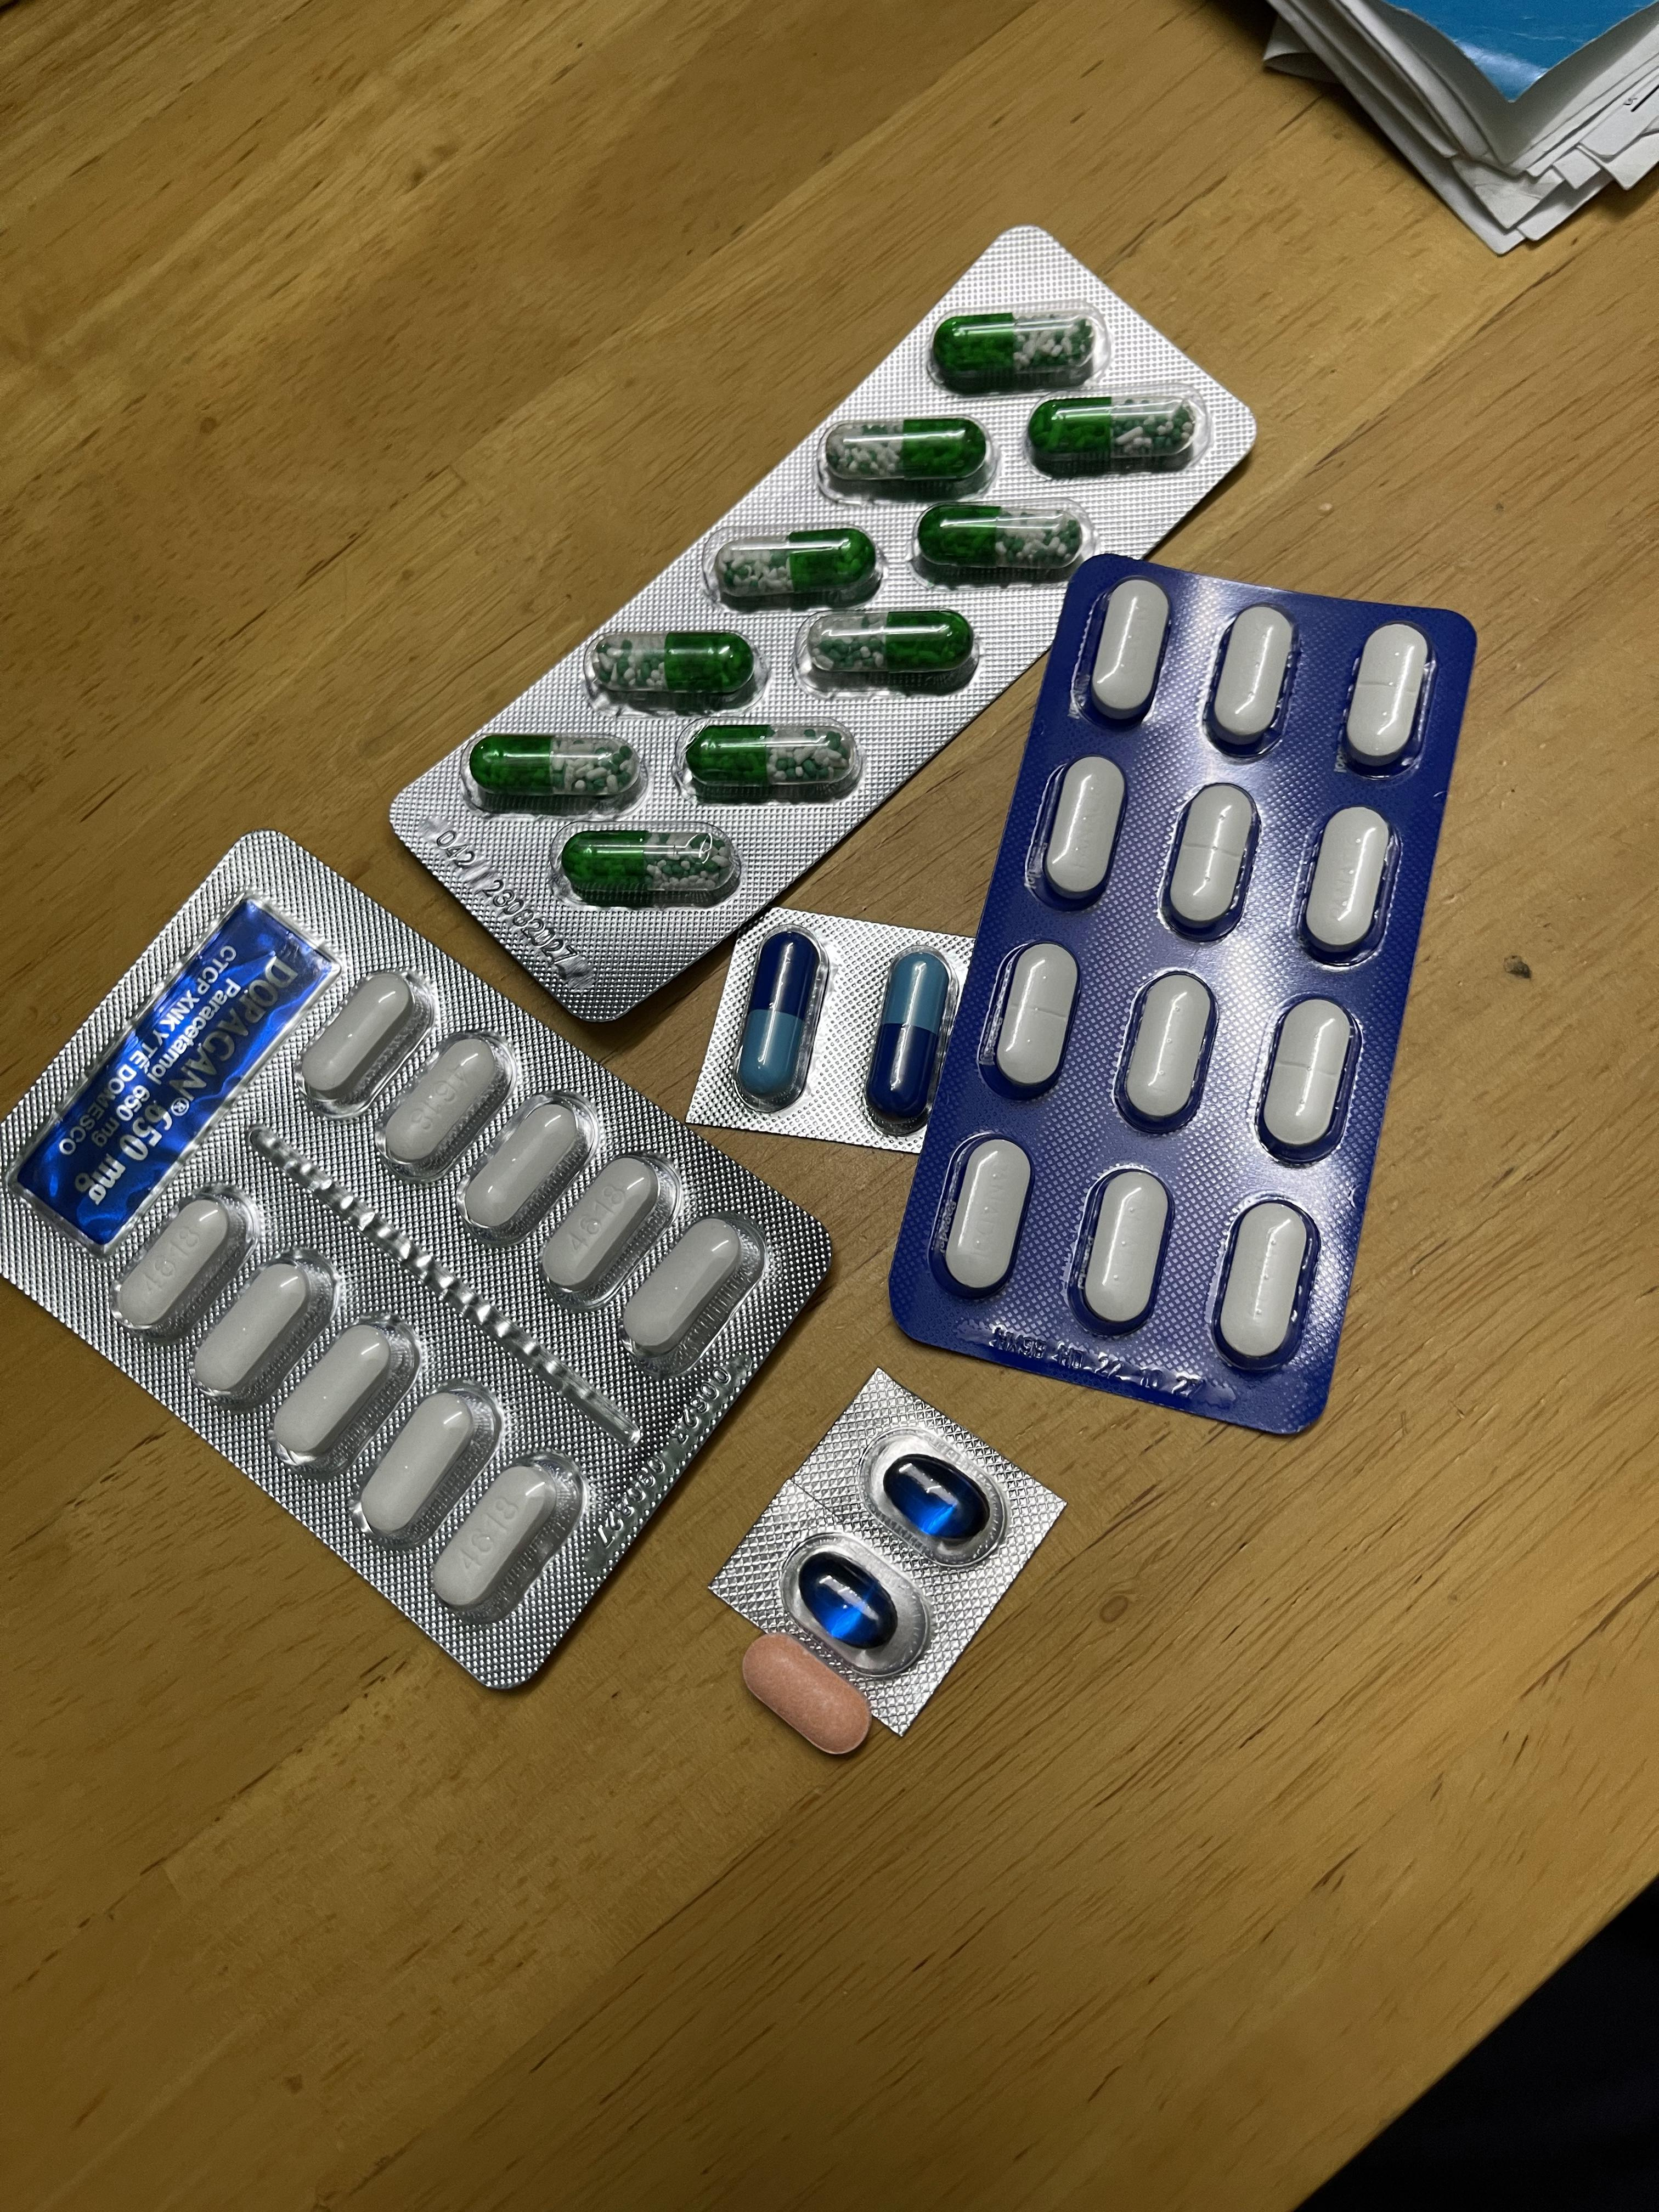Lincomyxin_500mg: (799, 1554, 895, 1649), (884, 1458, 981, 1544)
Loratadine_10mg: (740, 1628, 874, 1757)
Paracetamol_350mg: (1214, 1200, 1316, 1370), (1071, 1167, 1173, 1335), (1259, 997, 1362, 1164), (1118, 971, 1217, 1133), (936, 1138, 1032, 1296), (1302, 807, 1396, 964), (1164, 785, 1260, 938), (990, 943, 1079, 1096), (1041, 759, 1129, 909), (1344, 623, 1432, 770), (1207, 605, 1297, 749), (1086, 577, 1169, 717)
Paracetamol_500mg: (428, 1454, 588, 1622), (351, 1381, 498, 1550), (615, 1212, 761, 1378), (267, 1317, 410, 1474), (109, 1193, 250, 1344), (538, 1150, 673, 1302), (376, 1030, 513, 1176), (460, 1094, 596, 1240), (296, 967, 428, 1106), (194, 1259, 321, 1400)
Paracetamol_650mg: (559, 825, 747, 902), (932, 310, 1101, 392), (912, 503, 1084, 578), (824, 419, 990, 493), (686, 721, 842, 796), (590, 630, 754, 698), (469, 734, 633, 798), (1034, 396, 1185, 459), (810, 616, 967, 674), (720, 539, 853, 592)
pill: (735, 933, 821, 1113), (866, 950, 950, 1125)
